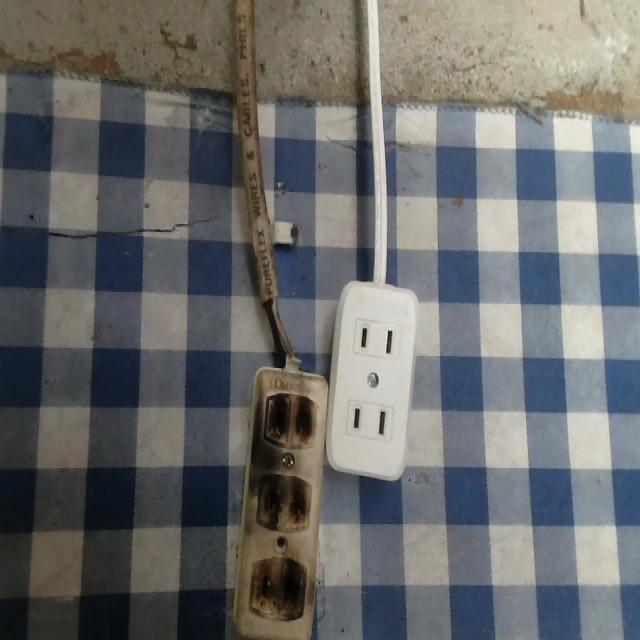-: (245, 554, 308, 622), (252, 466, 313, 534), (260, 389, 317, 444)
